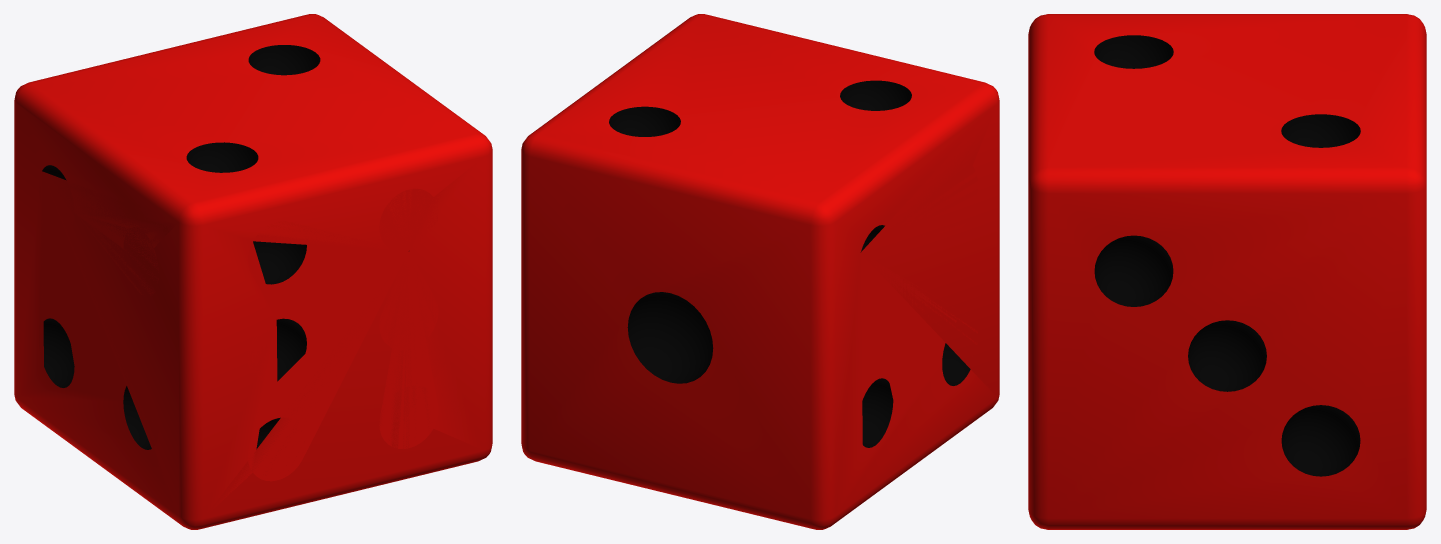
Rendered from Dice.fbx.
3 views of the same model, side by side, from view 1: azimuth 30°, elevation 25°; view 2: azimuth 150°, elevation 25°; view 3: azimuth 270°, elevation 25° (orthographic). The views are drawn at different scales.
Visible parts, largest first — view 1: Cube.001; view 2: Cube.001; view 3: Cube.001.
Part boxes in pixels (x1,y1,x2,y2): Cube.001: (14,14,492,529); Cube.001: (521,14,999,529); Cube.001: (1028,14,1426,529).
Size of the model in its own units: 200 by 200 by 200.
